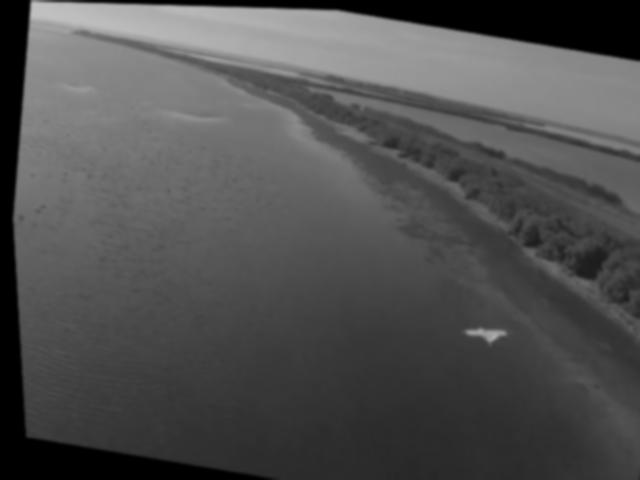hedef: (452, 312, 519, 357)
